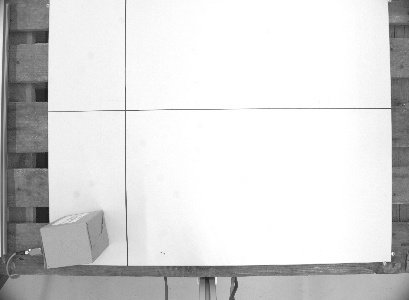b5: (37, 208, 111, 271)
